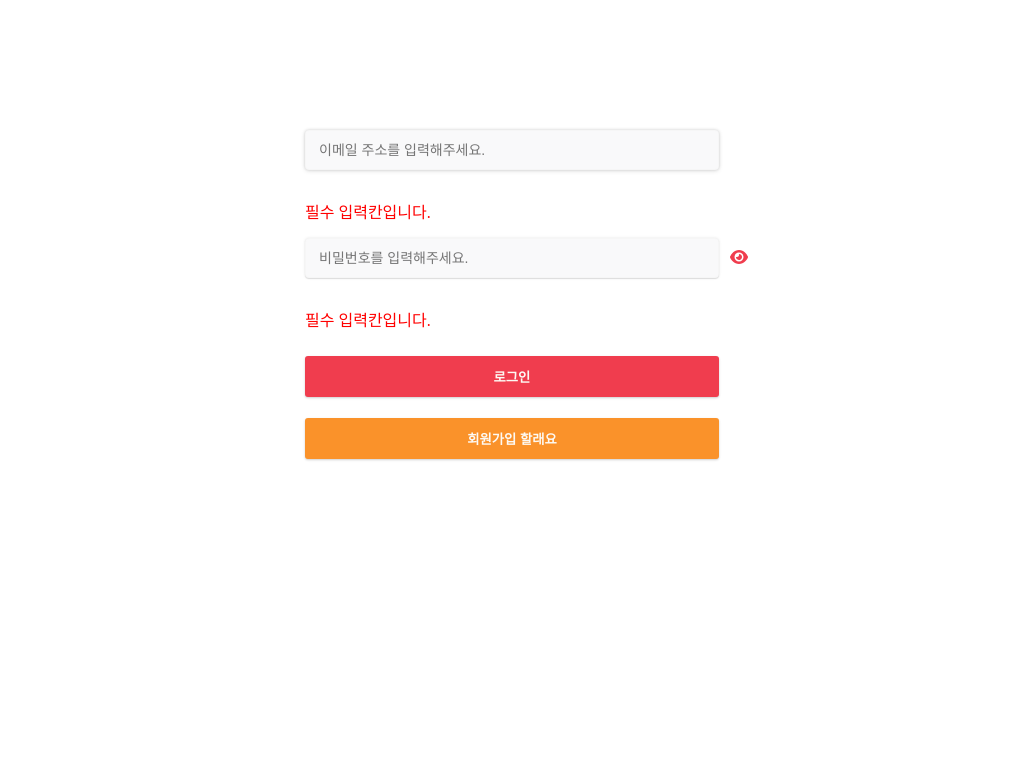
Test: 로그인 & 라우팅 테스트 › 로그인 성공 후 메인 페이지 라우팅 테스트
Type "kylelee@danbiedu.co.kr" into the field named "email" at [512, 150], box 305,130 -> 719,170
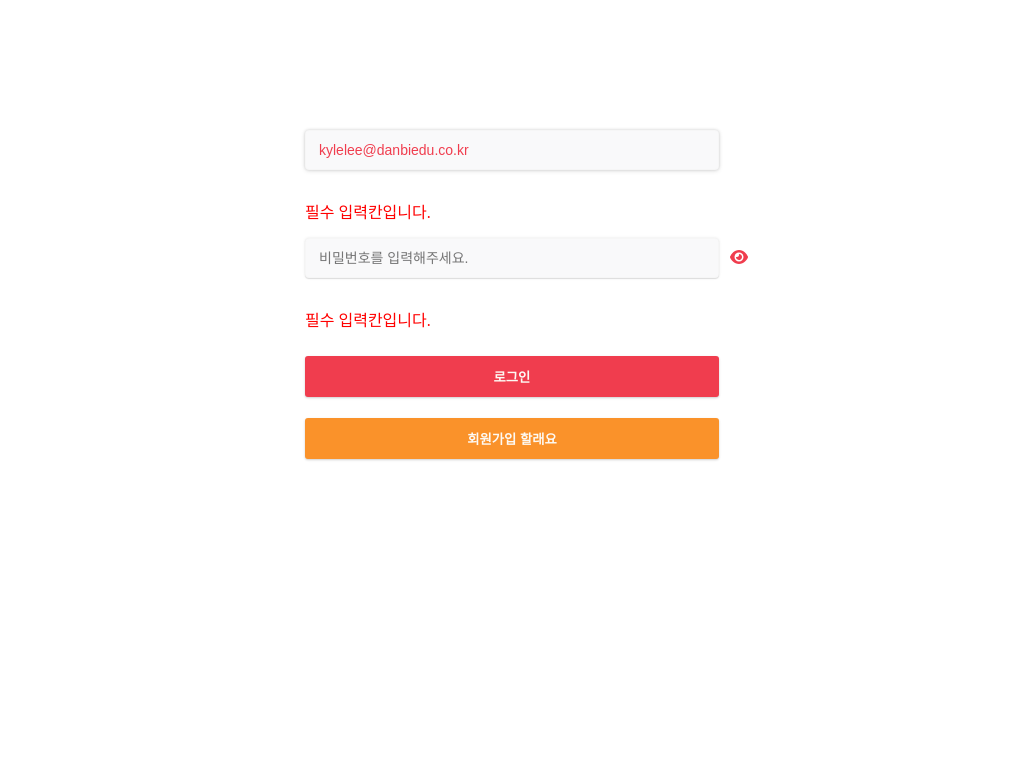
Type "dlsrks12" into the password field named "password" at [512, 258], box 305,238 -> 719,278
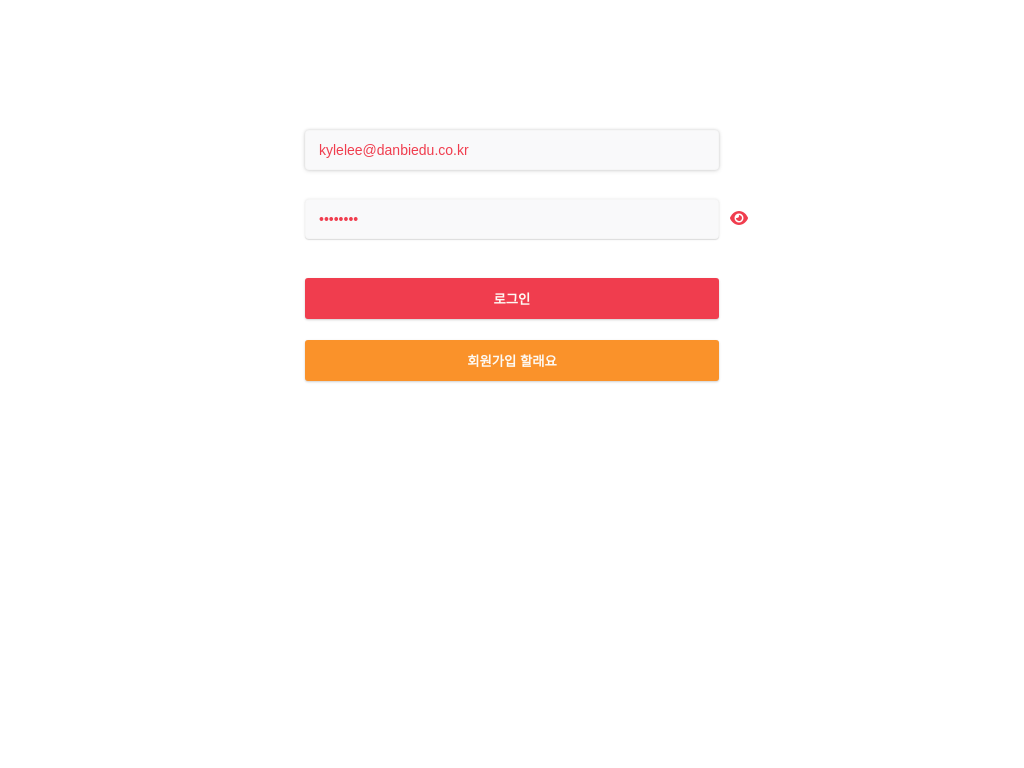
Click the button "로그인" at [512, 298], box 305,278 -> 719,319
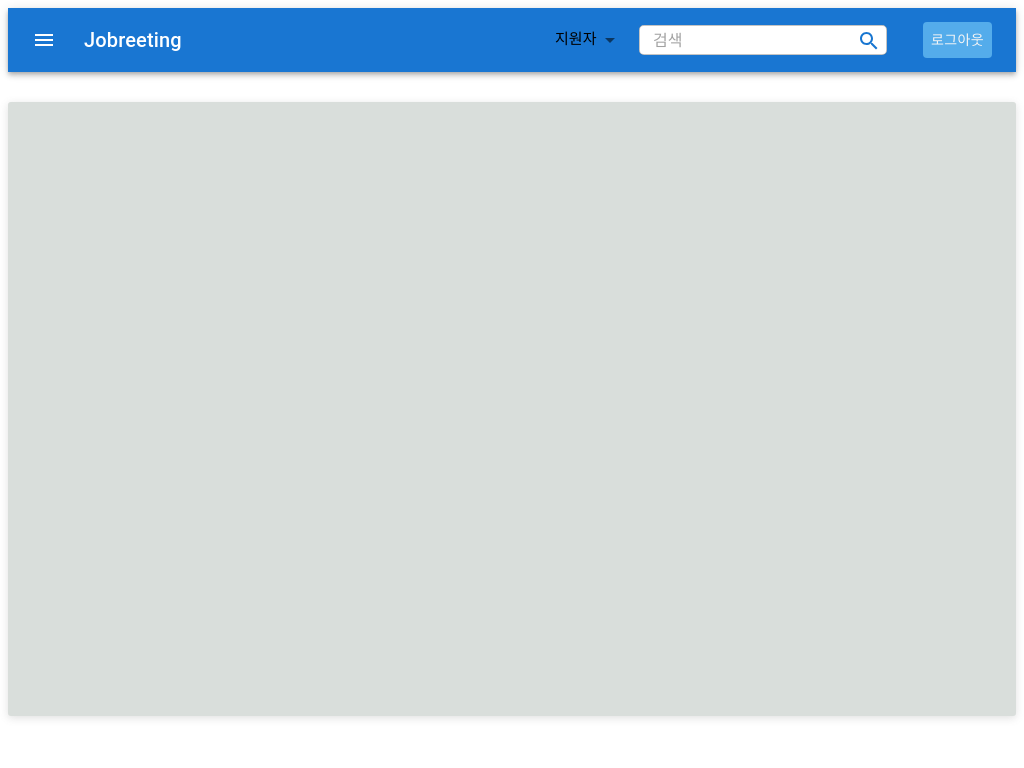
Expected: the text "Jobreeting" is shown, 84,28 -> 182,52
Expected: the button "로그아웃" is shown, 923,22 -> 992,58
